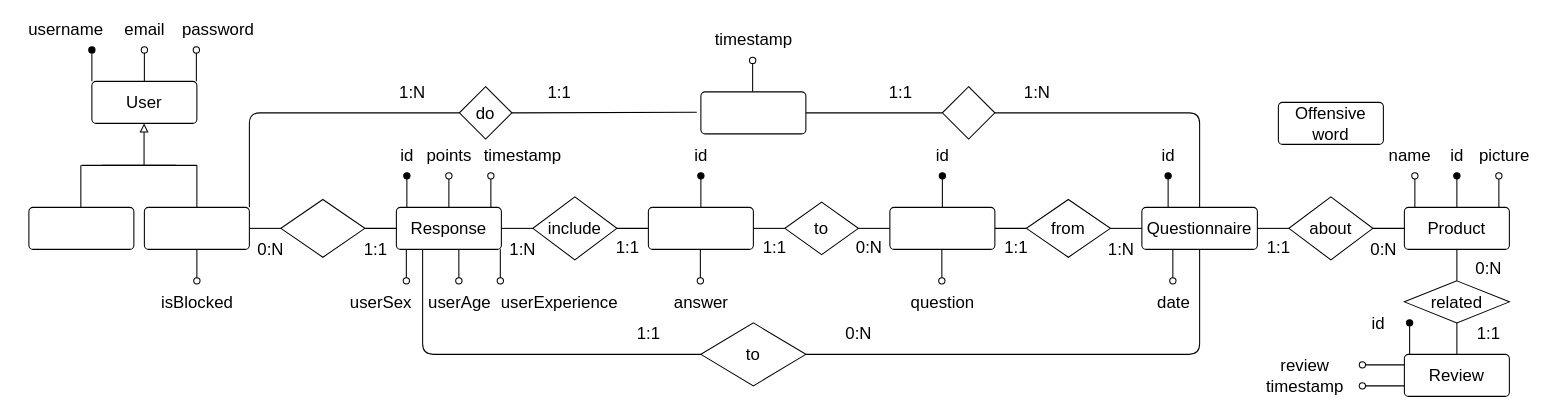
The diagram is 1553 pixels wide and 415 high, and some of its shapes have lost their labels. The centre of each missing label's shape, as x and y in pixels:
Admin: (x=81, y=227)
Marketing answer: (x=700, y=227)
Marketing question: (x=942, y=227)
of: (x=968, y=112)
Opening: (x=753, y=112)
SimpleUser: (x=196, y=227)
submit: (x=322, y=227)
